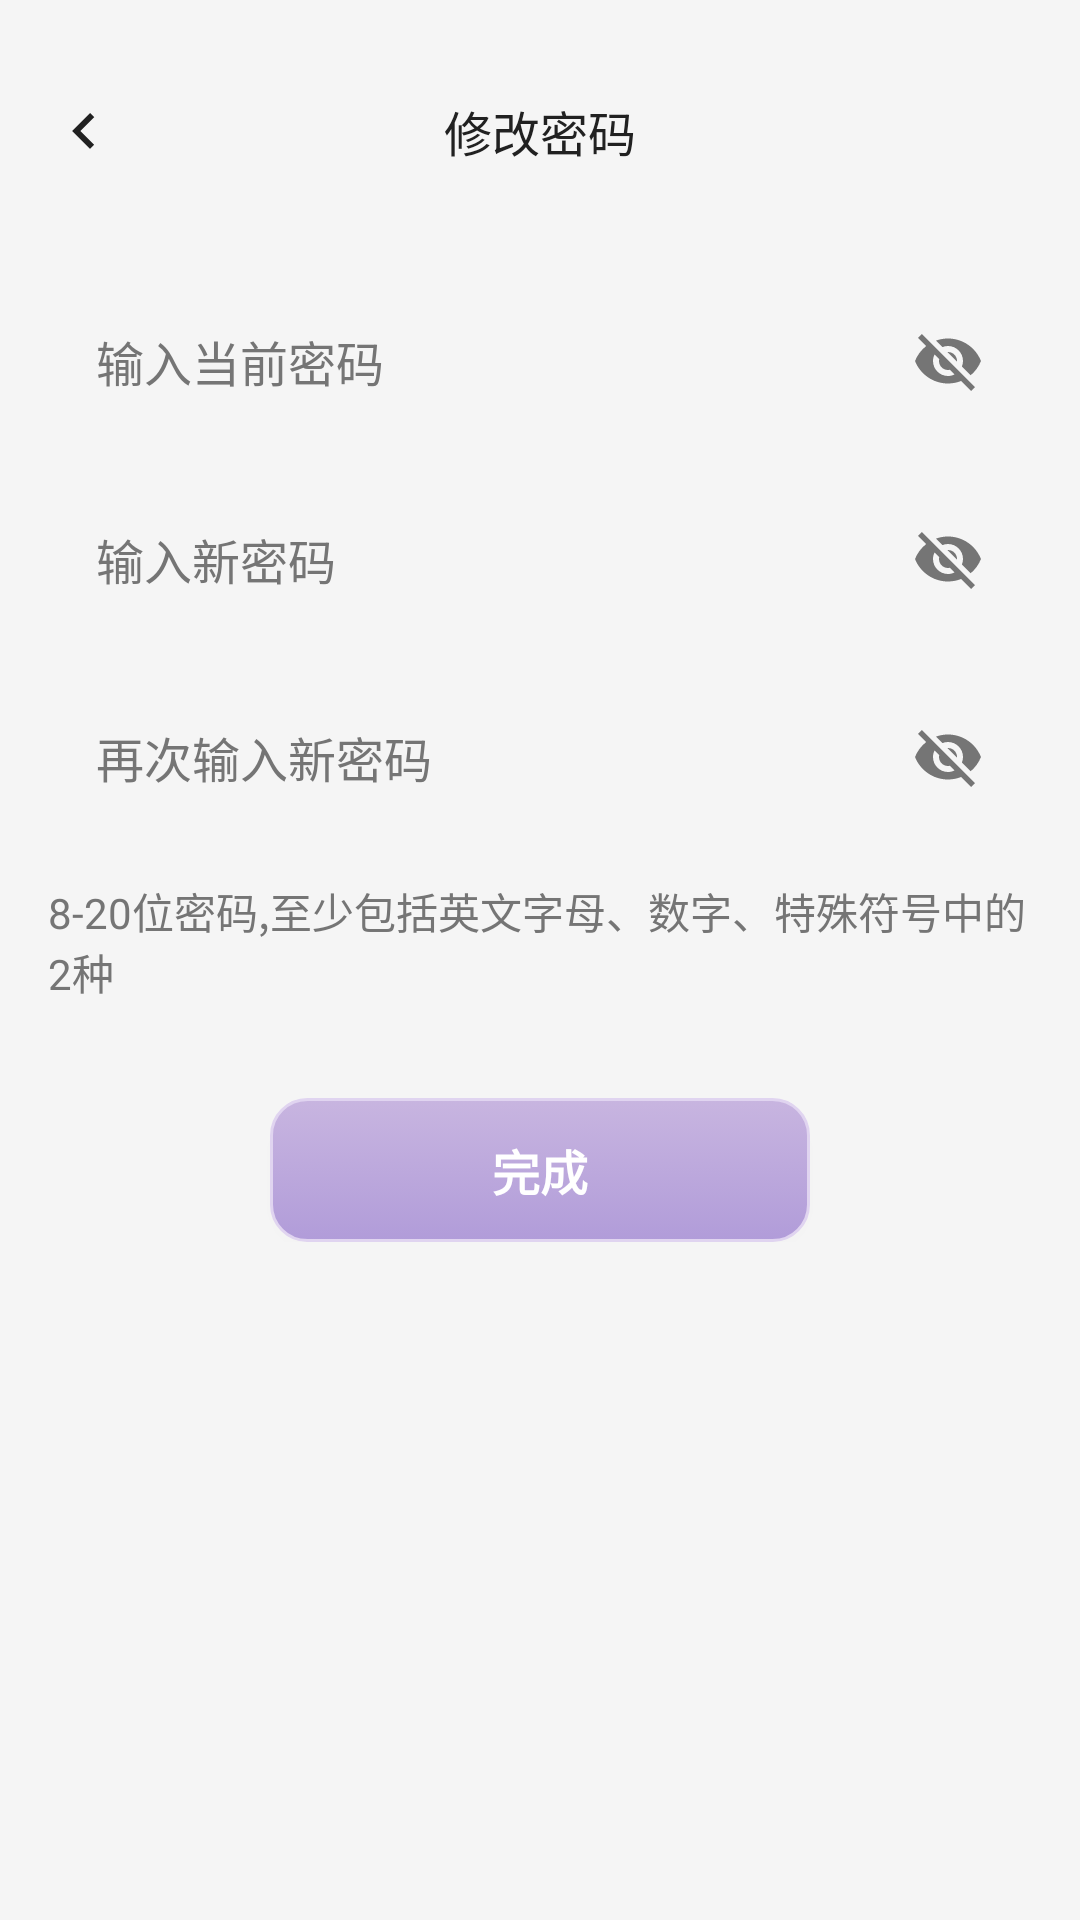

Icon bounding boxes for this 1080px x 1920px phone screenshot, format (x1, y1, x2, y2):
arrow left: (72, 113, 94, 149)
eye off: (915, 334, 981, 391), (915, 532, 981, 589), (915, 730, 981, 787)
